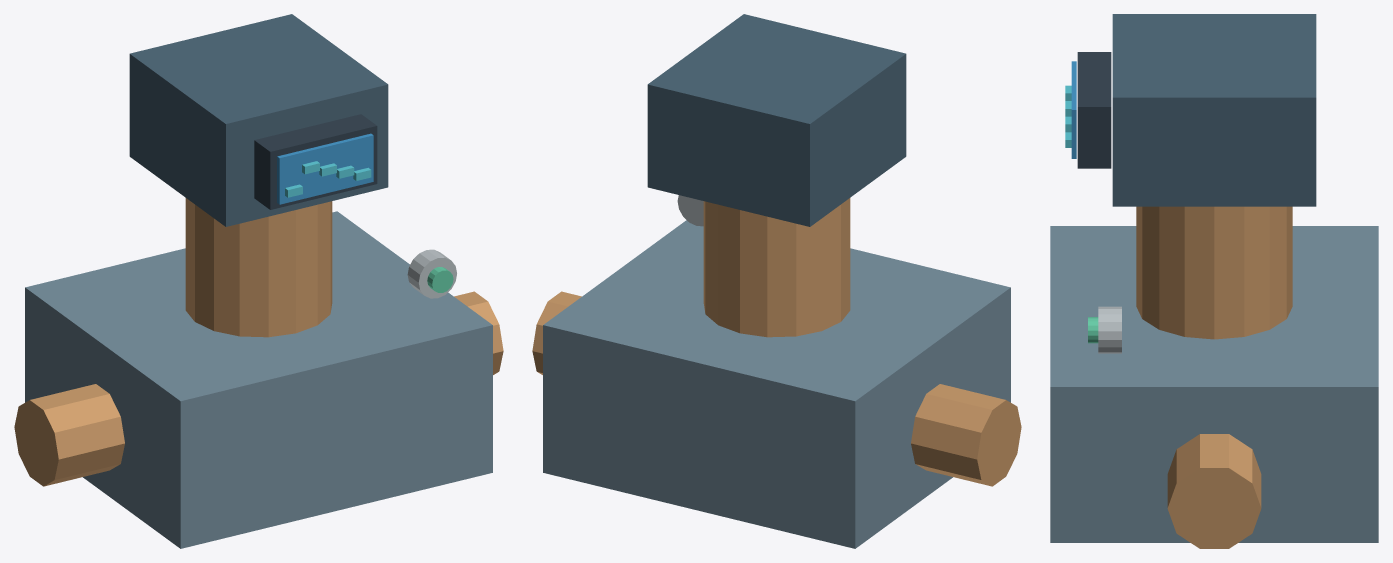
File: 10_L69_ElectronicExpansionValveB.glb
3 views of the same model, side by side, from view 1: azimuth 30°, elevation 25°; view 2: azimuth 150°, elevation 25°; view 3: azimuth 270°, elevation 25° (orthographic). The views are drawn at different scales.
Parts seen in each view (by area): view 1: ElectronicExpansionValveB_Part_000, ElectronicExpansionValveB_Part_002, ElectronicExpansionValveB_Part_001, ElectronicExpansionValveB_Part_010, ElectronicExpansionValveB_Part_003, ElectronicExpansionValveB_Part_004, ElectronicExpansionValveB_Part_011; view 2: ElectronicExpansionValveB_Part_000, ElectronicExpansionValveB_Part_002, ElectronicExpansionValveB_Part_001, ElectronicExpansionValveB_Part_010, ElectronicExpansionValveB_Part_011; view 3: ElectronicExpansionValveB_Part_000, ElectronicExpansionValveB_Part_002, ElectronicExpansionValveB_Part_001, ElectronicExpansionValveB_Part_010, ElectronicExpansionValveB_Part_003, ElectronicExpansionValveB_Part_011, ElectronicExpansionValveB_Part_004.
Boxes of the visible parts, x1=… form: ElectronicExpansionValveB_Part_000: x1=25, y1=211, x2=492, y2=548; ElectronicExpansionValveB_Part_002: x1=129, y1=14, x2=388, y2=226; ElectronicExpansionValveB_Part_001: x1=185, y1=198, x2=332, y2=337; ElectronicExpansionValveB_Part_010: x1=14, y1=291, x2=503, y2=486; ElectronicExpansionValveB_Part_003: x1=254, y1=114, x2=377, y2=209; ElectronicExpansionValveB_Part_004: x1=277, y1=133, x2=373, y2=204; ElectronicExpansionValveB_Part_011: x1=407, y1=249, x2=456, y2=298; ElectronicExpansionValveB_Part_000: x1=543, y1=220, x2=1010, y2=548; ElectronicExpansionValveB_Part_002: x1=647, y1=14, x2=906, y2=226; ElectronicExpansionValveB_Part_001: x1=703, y1=198, x2=850, y2=337; ElectronicExpansionValveB_Part_010: x1=532, y1=291, x2=1021, y2=486; ElectronicExpansionValveB_Part_011: x1=677, y1=195, x2=703, y2=226; ElectronicExpansionValveB_Part_000: x1=1050, y1=226, x2=1378, y2=542; ElectronicExpansionValveB_Part_002: x1=1112, y1=14, x2=1316, y2=206; ElectronicExpansionValveB_Part_001: x1=1136, y1=206, x2=1292, y2=339; ElectronicExpansionValveB_Part_010: x1=1167, y1=434, x2=1261, y2=548; ElectronicExpansionValveB_Part_003: x1=1077, y1=52, x2=1111, y2=168; ElectronicExpansionValveB_Part_011: x1=1098, y1=306, x2=1121, y2=353; ElectronicExpansionValveB_Part_004: x1=1071, y1=61, x2=1076, y2=158.
Bounding box in the file's own units: 1.04 × 0.86 × 0.63.
